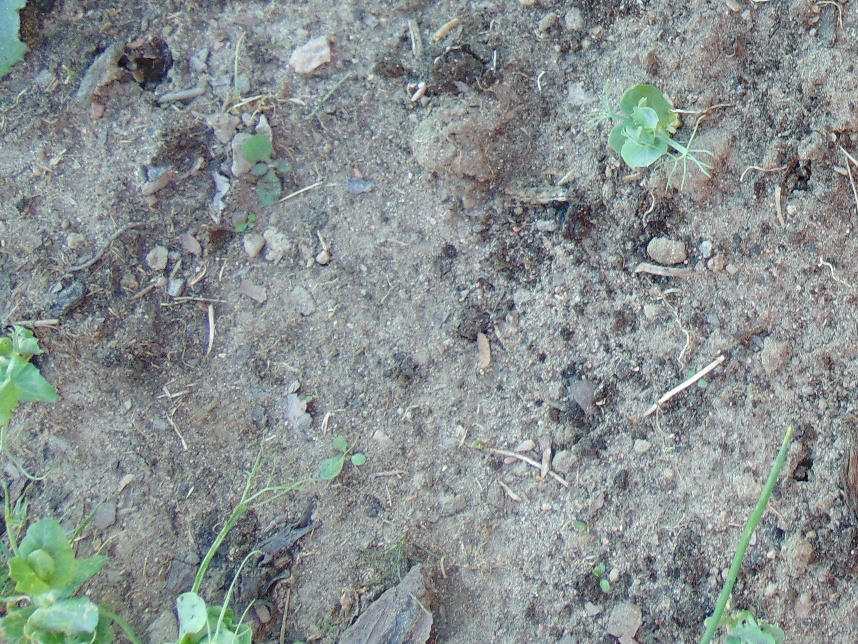crop: (1, 494, 144, 644), (175, 474, 268, 644), (594, 80, 703, 177), (1, 324, 57, 458), (704, 623, 782, 644)
weed: (242, 135, 292, 205), (1, 1, 31, 79), (317, 436, 370, 479)
